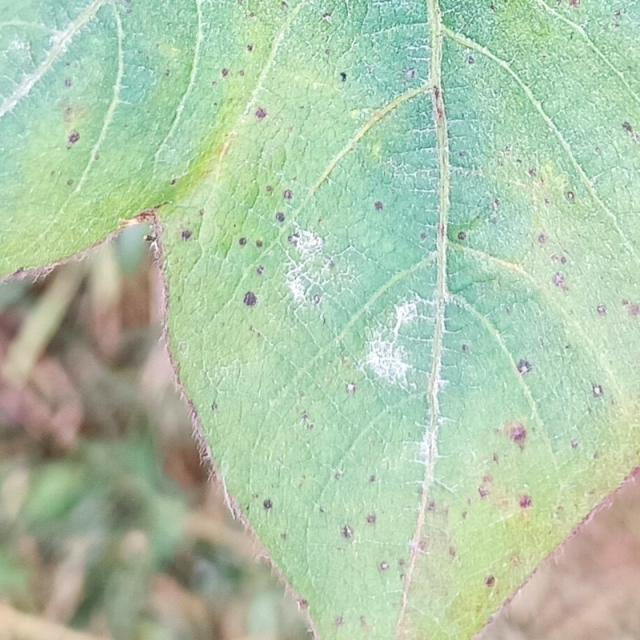Bacterial_Blight: (236, 287, 259, 312), (506, 422, 528, 447), (622, 121, 640, 143), (552, 273, 570, 293), (299, 410, 315, 432), (67, 130, 81, 148), (517, 359, 532, 374), (518, 494, 532, 509), (625, 302, 639, 317), (550, 253, 566, 265), (254, 107, 268, 120), (591, 383, 604, 397), (341, 525, 354, 539), (404, 68, 417, 81), (359, 615, 370, 629), (435, 102, 444, 119), (64, 106, 74, 121), (262, 498, 273, 510), (485, 575, 496, 587), (181, 229, 192, 241), (289, 232, 300, 244), (321, 12, 333, 23), (417, 540, 428, 552), (482, 474, 493, 486), (345, 383, 356, 395), (143, 233, 156, 243), (478, 487, 489, 498), (283, 189, 293, 200), (298, 600, 308, 611), (366, 514, 376, 525), (465, 54, 475, 65), (334, 616, 344, 627), (597, 306, 607, 316), (374, 201, 384, 211), (457, 231, 467, 241), (275, 212, 285, 222), (427, 500, 436, 511), (538, 233, 547, 244), (491, 200, 500, 211), (449, 546, 457, 558), (568, 0, 580, 8), (462, 344, 471, 354), (380, 561, 389, 571), (566, 191, 575, 201), (301, 411, 310, 421), (528, 168, 537, 178), (555, 506, 564, 516), (492, 452, 500, 463), (238, 237, 247, 246), (368, 474, 377, 483), (280, 1, 289, 10), (614, 10, 623, 19), (221, 68, 229, 78), (339, 72, 347, 82), (256, 265, 264, 275), (313, 294, 321, 304), (64, 78, 72, 88), (571, 440, 579, 449), (334, 472, 343, 480), (247, 11, 256, 19), (211, 400, 217, 411), (622, 298, 630, 306), (256, 239, 263, 248), (266, 185, 273, 193), (66, 179, 74, 186), (247, 44, 254, 52), (238, 69, 245, 77), (280, 532, 287, 540), (420, 232, 427, 240), (164, 69, 171, 77), (198, 208, 205, 216), (170, 178, 176, 186), (319, 506, 325, 513)
Cotton: (0, 0, 639, 639)
